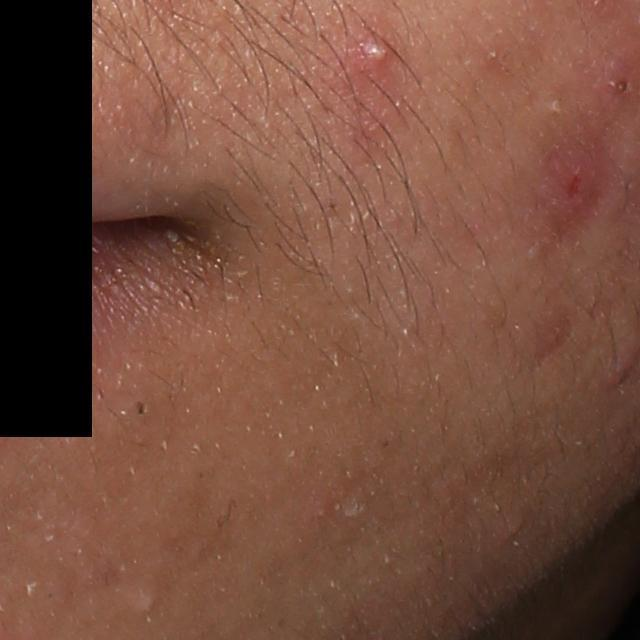comedo: (132, 589, 158, 621), (134, 401, 150, 418)
pustule: (347, 19, 402, 74)
